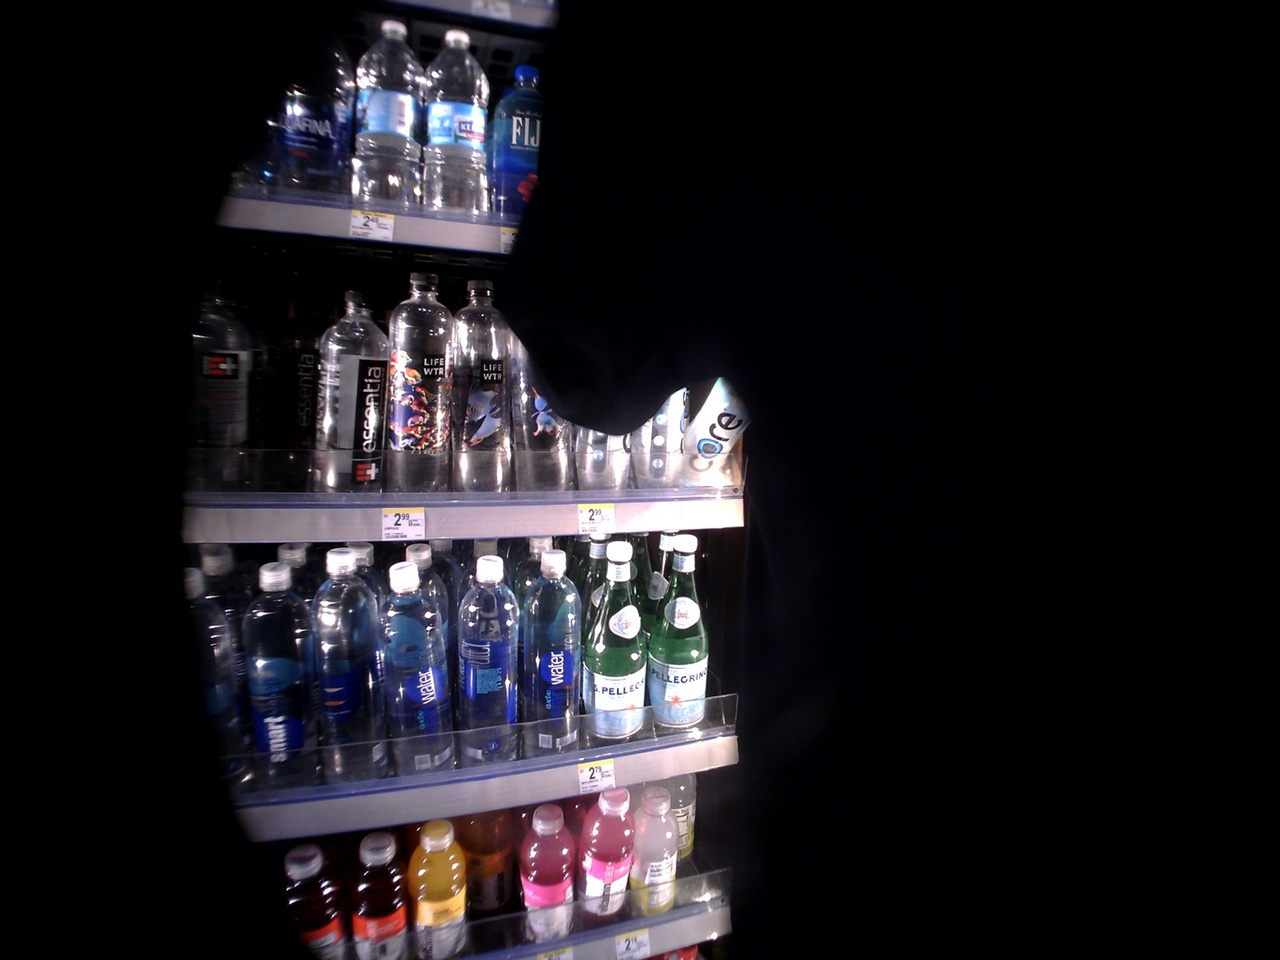shelf: (188, 522, 741, 811), (181, 263, 703, 527), (256, 782, 727, 960)
